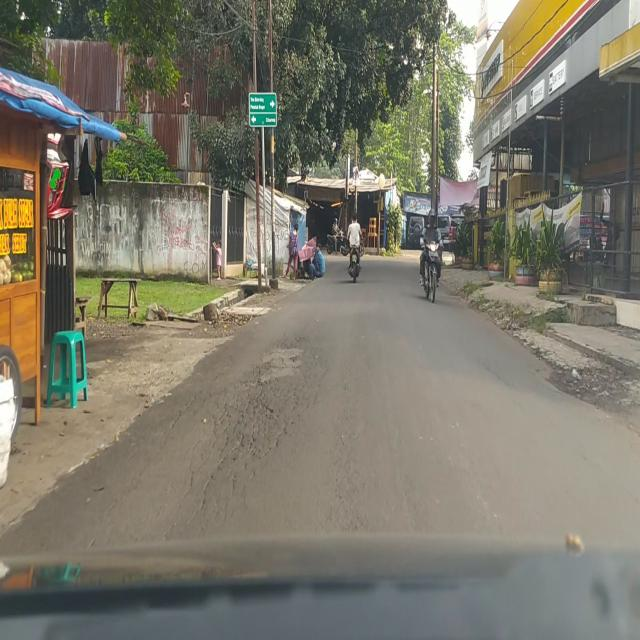Drain Hole: (185, 337, 326, 523)
